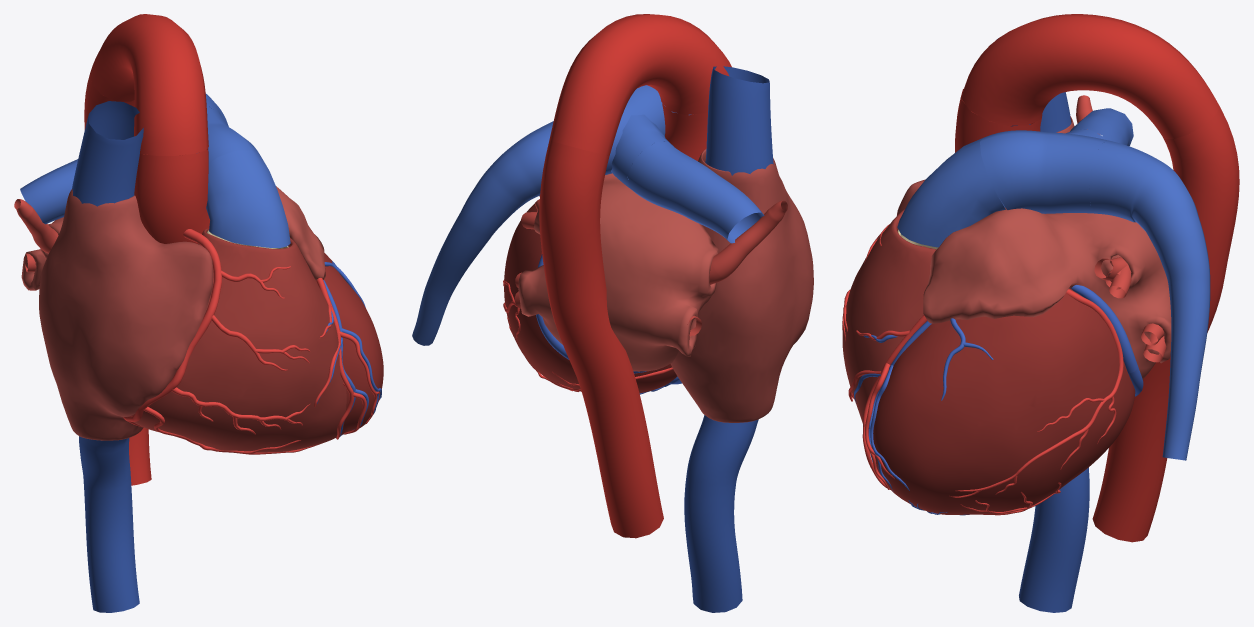
File: zanatomy-heart.glb
3 renders of one model, left to right at view 1: azimuth 30°, elevation 25°; view 2: azimuth 150°, elevation 25°; view 3: azimuth 270°, elevation 25°, orthographic. The views are drawn at different scales.
Parts seen in each view (by area): view 1: za_right_atrium_1, za_right_ventricle_1, za_aorta_1, za_ivc_1, za_pulmonary_trunk_3, za_aorta_2, za_svc_1, za_coronary_4, za_left_ventricle_1, za_left_atrium_1, za_pulmonary_trunk_4, za_coronary_1 (+4 smaller); view 2: za_aorta_3, za_right_atrium_1, za_left_atrium_1, za_aorta_1, za_ivc_1, za_pulmonary_trunk_2, za_pulmonary_trunk_4, za_svc_1, za_left_ventricle_1, za_pulmonary_trunk_1, za_pulmonary_vein_4, za_aorta_2; view 3: za_left_ventricle_1, za_left_atrium_1, za_aorta_1, za_aorta_3, za_pulmonary_trunk_2, za_right_ventricle_1, za_pulmonary_trunk_1, za_ivc_1, za_pulmonary_trunk_3, za_cardiac_vein_2, za_coronary_2, za_coronary_1 (+5 smaller).
Part boxes in pixels (<box>): za_right_atrium_1: <box>39,189,213,440</box>; za_right_ventricle_1: <box>127,228,346,452</box>; za_aorta_1: <box>90,14,208,155</box>; za_ivc_1: <box>79,436,139,612</box>; za_pulmonary_trunk_3: <box>206,150,290,248</box>; za_aorta_2: <box>134,148,209,243</box>; za_svc_1: <box>72,101,143,206</box>; za_coronary_4: <box>123,229,319,454</box>; za_left_ventricle_1: <box>324,253,383,434</box>; za_left_atrium_1: <box>21,186,325,290</box>; za_pulmonary_trunk_4: <box>20,159,77,224</box>; za_coronary_1: <box>314,278,379,439</box>; za_aorta_3: <box>539,140,663,538</box>; za_right_atrium_1: <box>671,149,813,422</box>; za_left_atrium_1: <box>518,173,718,371</box>; za_aorta_1: <box>549,14,731,155</box>; za_ivc_1: <box>684,415,758,612</box>; za_pulmonary_trunk_2: <box>412,121,553,345</box>; za_pulmonary_trunk_4: <box>628,141,764,243</box>; za_svc_1: <box>705,66,773,175</box>; za_left_ventricle_1: <box>504,203,677,393</box>; za_pulmonary_trunk_1: <box>605,85,676,188</box>; za_pulmonary_vein_4: <box>709,200,787,284</box>; za_aorta_2: <box>662,103,707,161</box>; za_left_ventricle_1: <box>871,288,1135,514</box>; za_left_atrium_1: <box>923,207,1171,379</box>; za_aorta_1: <box>961,14,1219,138</box>; za_aorta_3: <box>1092,107,1239,542</box>; za_pulmonary_trunk_2: <box>1089,140,1210,460</box>; za_right_ventricle_1: <box>842,209,936,423</box>; za_pulmonary_trunk_1: <box>980,129,1108,213</box>; za_ivc_1: <box>1019,467,1089,612</box>; za_pulmonary_trunk_3: <box>897,138,1005,247</box>; za_cardiac_vein_2: <box>854,285,1137,491</box>; za_coronary_2: <box>949,289,1123,497</box>; za_coronary_1: <box>848,315,927,489</box>.
Size of the model in its own units: 0.135 by 0.2264 by 0.1307.
